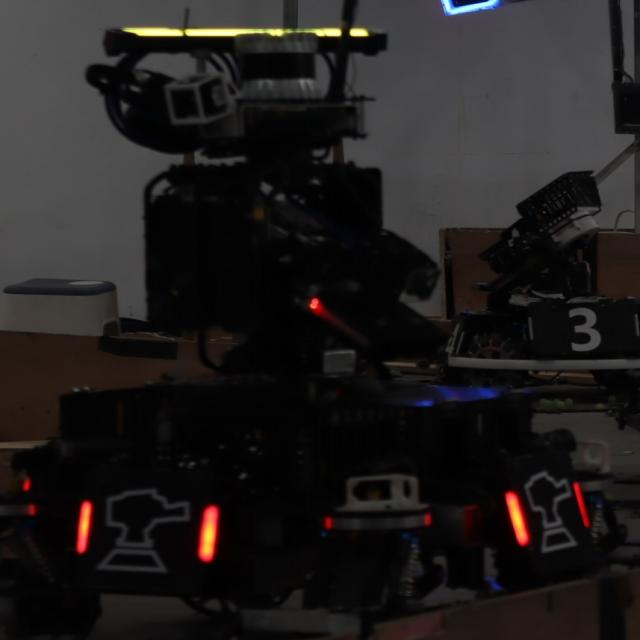Rs: (72, 488, 224, 578), (503, 468, 594, 557)
